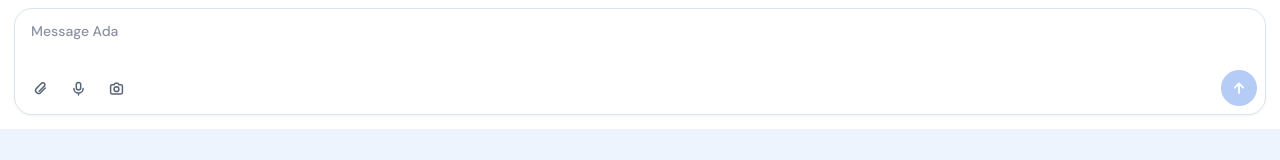
it: the microphone › Enter is ✓ and Escape is ×
The width and height of the screenshot is (1280, 160).
Press the mouse on the button named "Talk" at (78, 88), box [63,73,93,103]
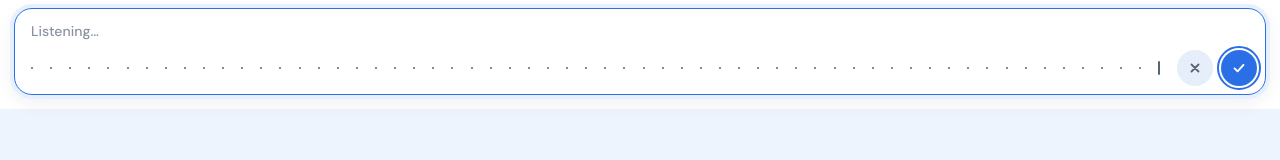
Expected: the text "Listening…" is shown, [31,22,99,40]
Press Escape
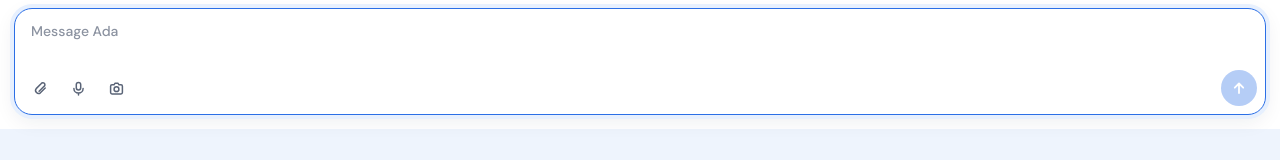
Expected: the button "Recording" is gone
Press the mouse on the button named "Talk" at (78, 88), box [63,73,93,103]
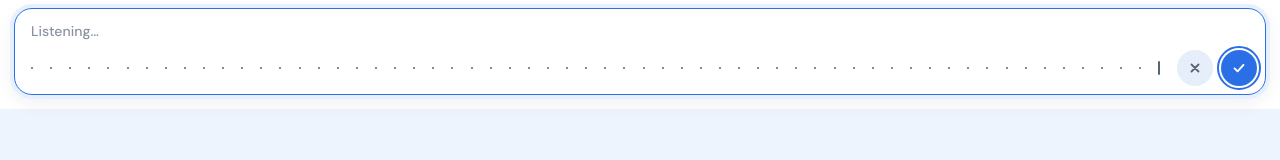
Expected: the text "Listening…" is shown, [31,22,99,40]
Press Enter
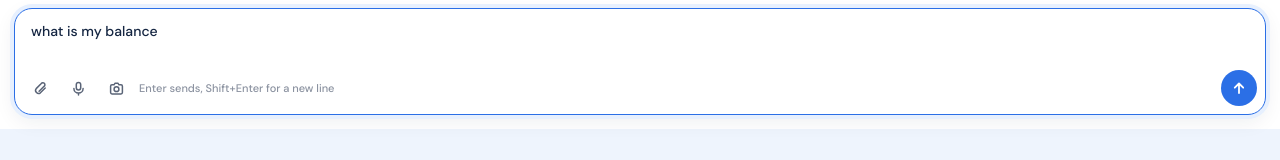
Expected: the text box holds "what is my balance", [15,9,1265,68]
